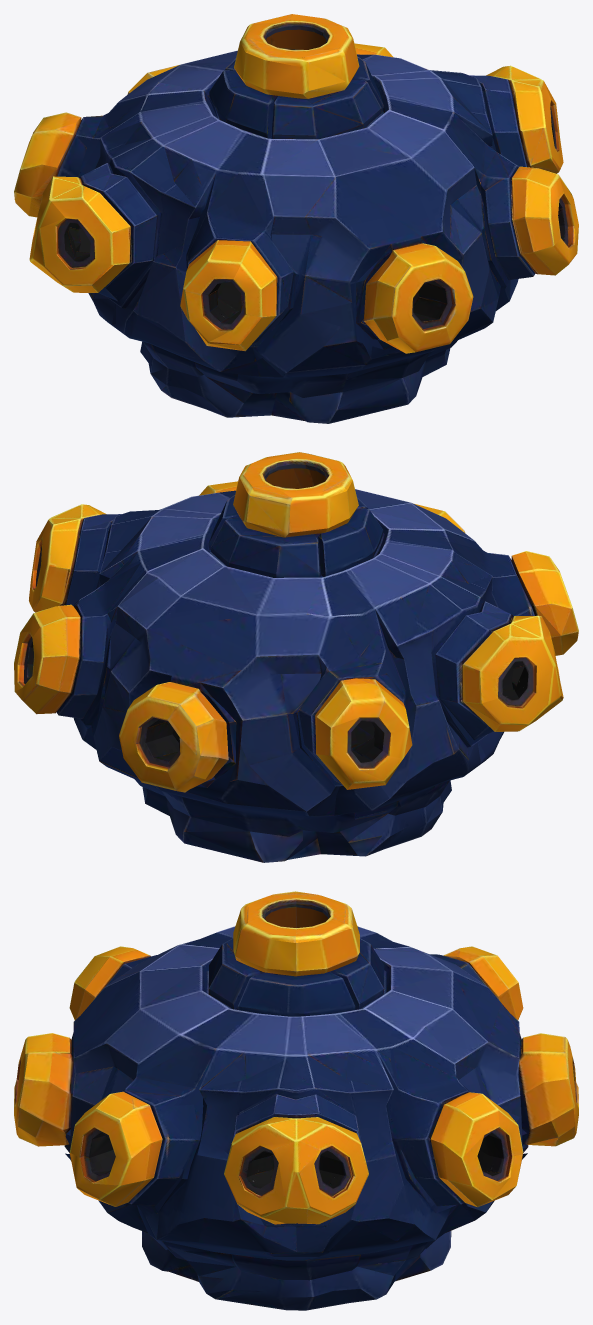
Rendered from 784ff165-3fe3-4ffc-b17c-cb08c0c432bd_part_6_optimized.glb.
3 renders of one model, top to bottom at view 1: azimuth 30°, elevation 25°; view 2: azimuth 150°, elevation 25°; view 3: azimuth 270°, elevation 25°, orthographic.
Parts seen in each view (by area): view 1: output_unwrapped; view 2: output_unwrapped; view 3: output_unwrapped.
Part boxes in pixels (box(x1,y1,x2,y2)): output_unwrapped: box(14, 14, 578, 423); output_unwrapped: box(14, 452, 578, 862); output_unwrapped: box(14, 891, 578, 1310).
Size of the model in its own units: 1.9 by 1.15 by 1.77.
Materials: 1 (1 with a texture image).
